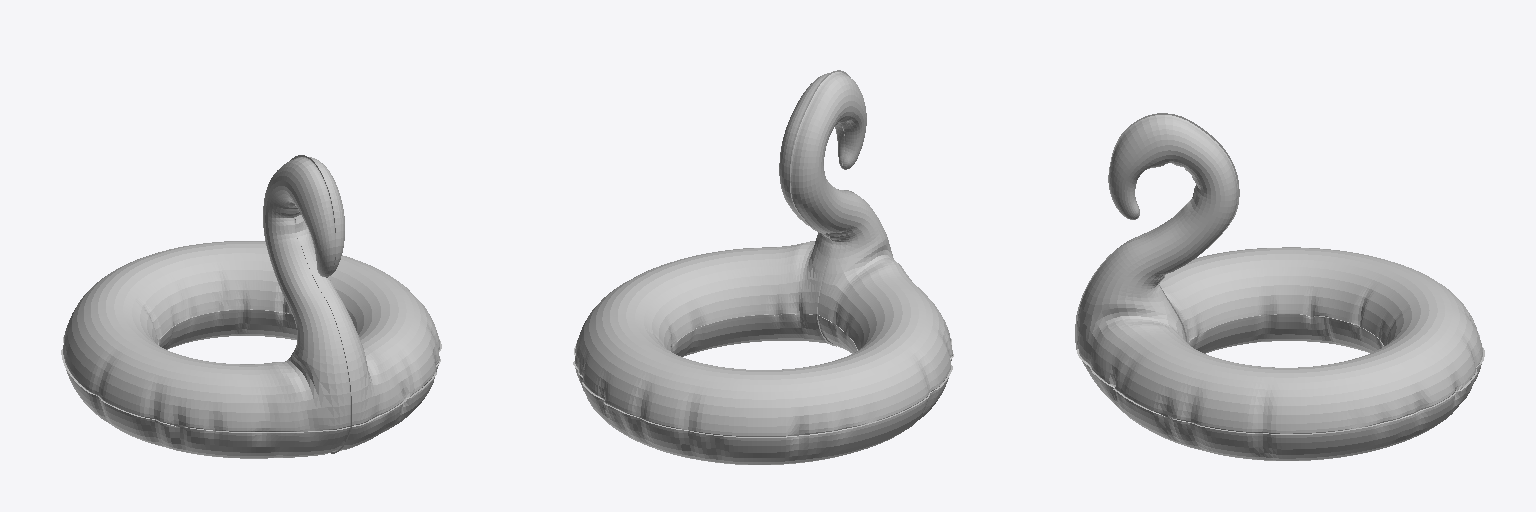
File: SwimRing.obj
3 renders of one model, left to right at view 1: azimuth 30°, elevation 25°; view 2: azimuth 150°, elevation 25°; view 3: azimuth 270°, elevation 25°, orthographic.
Bounding box in the file's own units: 7.66 × 6.29 × 8.27.